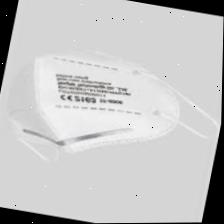mask: (0, 30, 201, 196)
